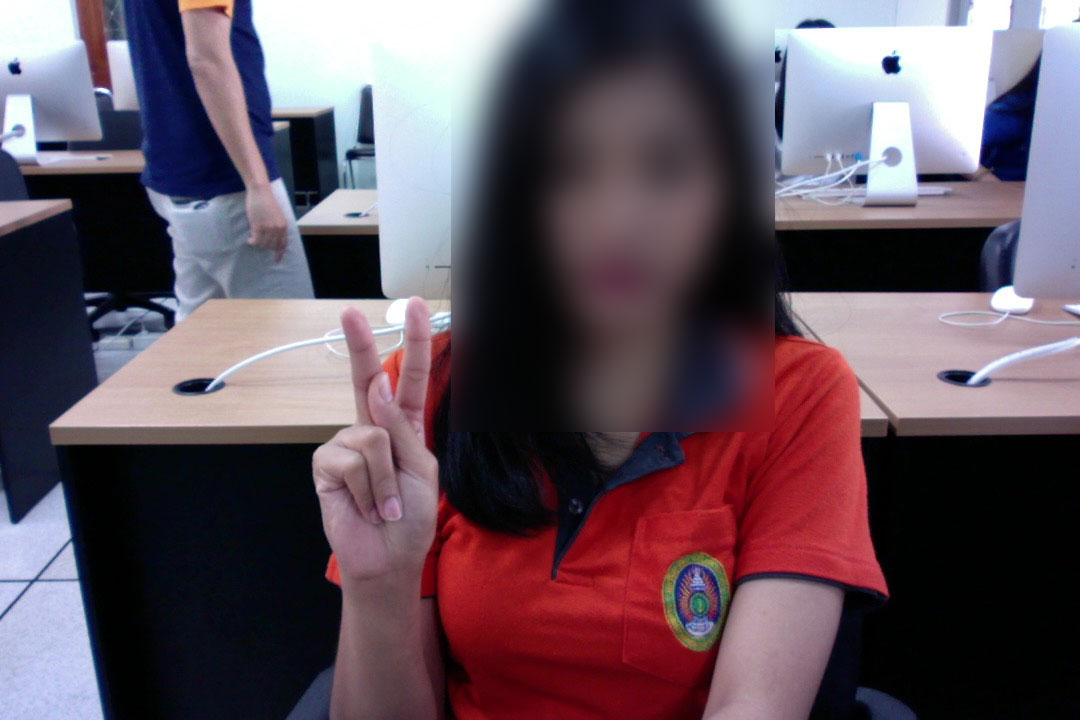ko: (302, 278, 457, 603)
